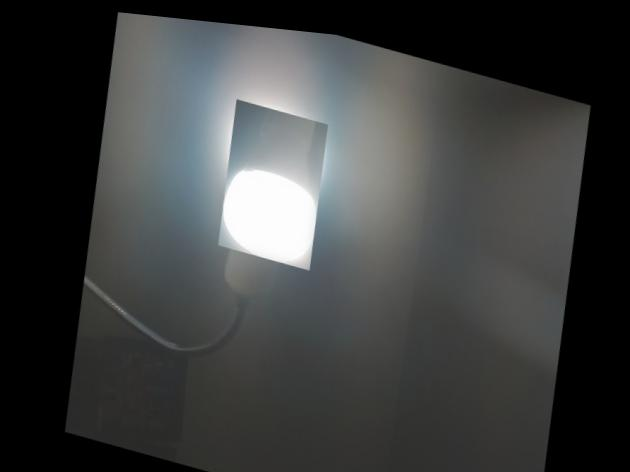TubeLight: (209, 92, 333, 267)
